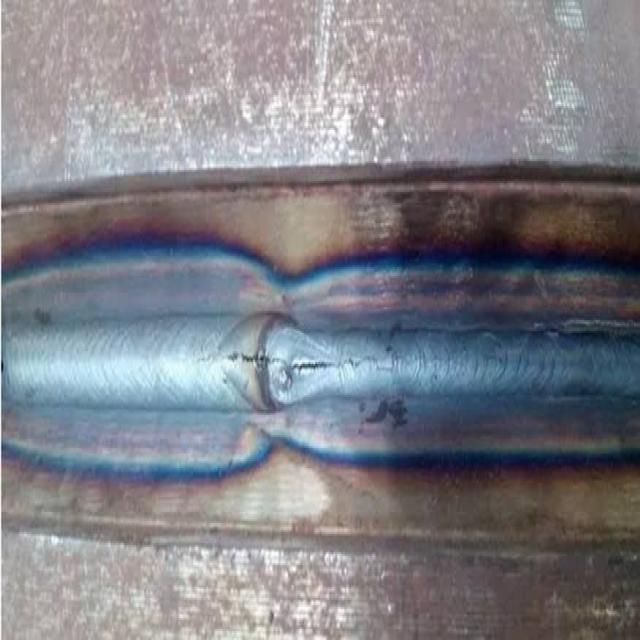Crack: (222, 342, 405, 378)
